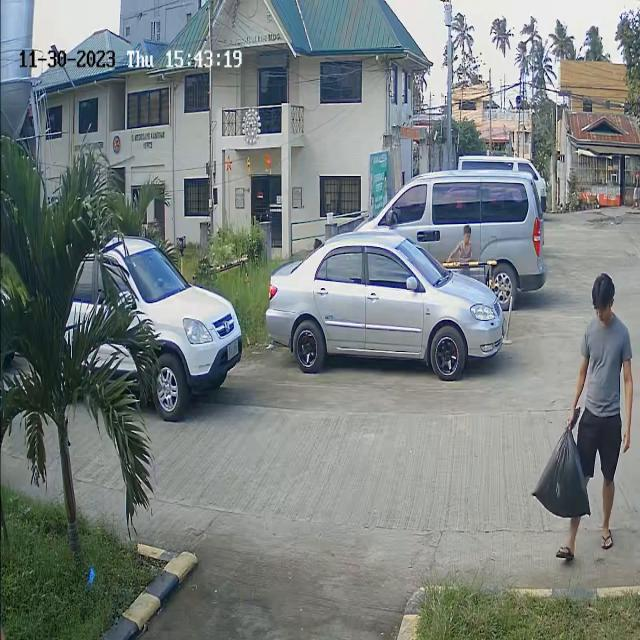garbage: (532, 409, 596, 518)
person: (574, 278, 637, 401)
